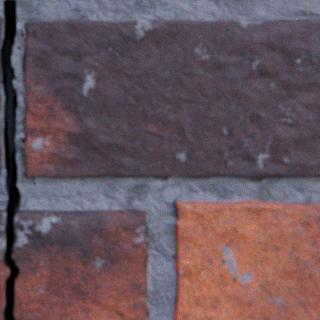brick: (23, 19, 319, 176), (173, 200, 319, 319), (0, 18, 2, 46), (0, 118, 1, 173), (0, 65, 1, 109)
broken_brick: (12, 208, 147, 319), (0, 208, 9, 319)
crack: (0, 0, 21, 319)
